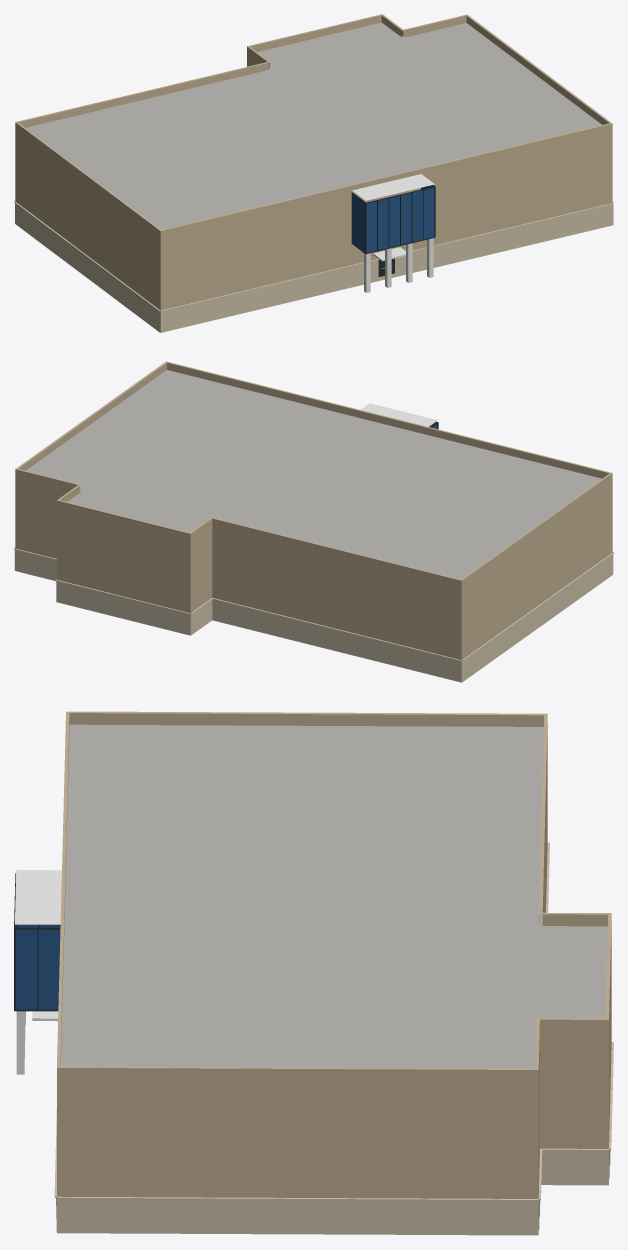
Rendered from recreation_center_west.glb.
The picture shows the model from 3 angles, top to bottom: view 1: azimuth 30°, elevation 25°; view 2: azimuth 150°, elevation 25°; view 3: azimuth 270°, elevation 25°; orthographic projection. The views are drawn at different scales.
Visible parts, largest first — view 1: recreation_center_west_Roof_Membrane, recreation_center_west_Wall_tan, recreation_center_west_Wall_limestone, recreation_center_west_Glass_blue, recreation_center_west_Trim_White, recreation_center_west_Frame_Dark; view 2: recreation_center_west_Roof_Membrane, recreation_center_west_Wall_tan, recreation_center_west_Wall_limestone, recreation_center_west_Trim_White; view 3: recreation_center_west_Roof_Membrane, recreation_center_west_Wall_tan, recreation_center_west_Wall_limestone, recreation_center_west_Glass_blue, recreation_center_west_Trim_White.
Part boxes in pixels (x1,y1,x2,y2): recreation_center_west_Roof_Membrane: (26,22,601,229); recreation_center_west_Wall_tan: (15,14,612,332); recreation_center_west_Wall_limestone: (14,201,613,332); recreation_center_west_Glass_blue: (352,185,434,252); recreation_center_west_Trim_White: (352,174,434,292); recreation_center_west_Frame_Dark: (351,185,435,276); recreation_center_west_Roof_Membrane: (26,370,601,579); recreation_center_west_Wall_tan: (15,361,612,681); recreation_center_west_Wall_limestone: (14,547,613,682); recreation_center_west_Trim_White: (360,403,437,426); recreation_center_west_Roof_Membrane: (60,724,607,1068); recreation_center_west_Wall_tan: (57,711,611,1228); recreation_center_west_Wall_limestone: (54,842,613,1235); recreation_center_west_Glass_blue: (15,924,60,1009); recreation_center_west_Trim_White: (15,870,61,1074).
Size of the model in its own units: 59.47 by 12.7 by 41.83.
